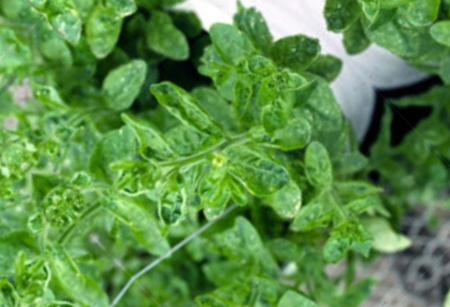Tomato leaf mosaic virus: (209, 126, 299, 217), (144, 65, 224, 147), (287, 134, 357, 204), (236, 39, 281, 85), (87, 0, 144, 25)
